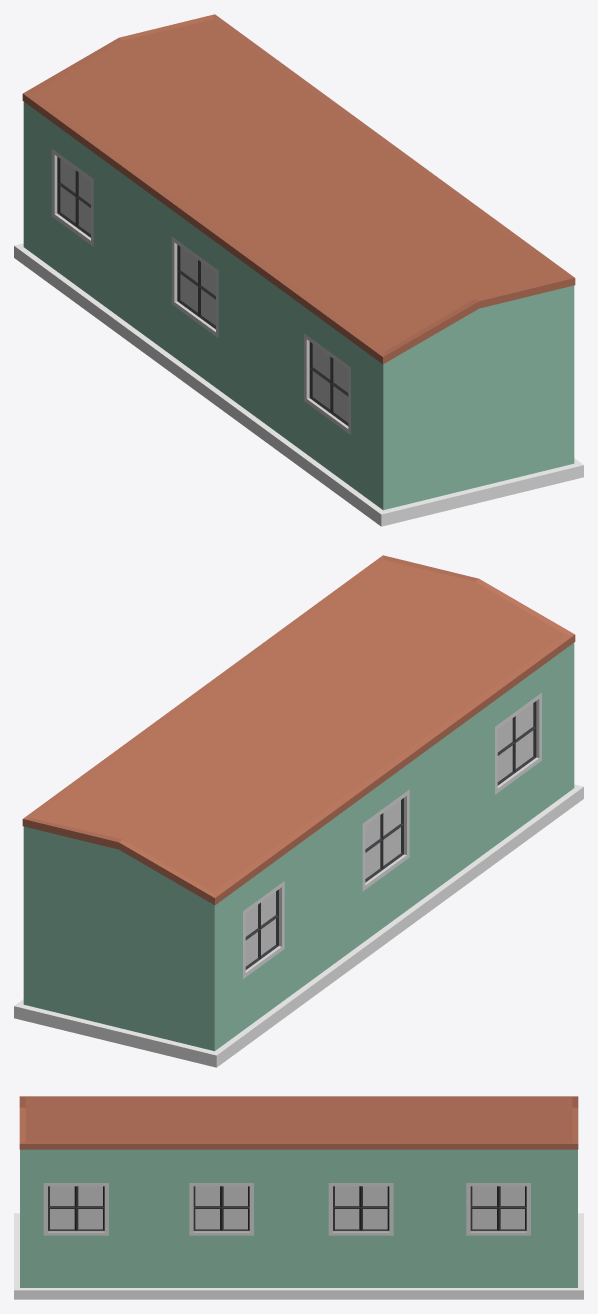
File: Church Hallblend.fbx
3 views of the same model, one above another, from view 1: azimuth 30°, elevation 25°; view 2: azimuth 150°, elevation 25°; view 3: azimuth 270°, elevation 25° (orthographic). The views are drawn at different scales.
Parts seen in each view (by area): view 1: building_003; view 2: building_003; view 3: building_003.
Part boxes in pixels (x1,y1,x2,y2): building_003: [14, 14, 583, 526]; building_003: [14, 555, 583, 1067]; building_003: [14, 1096, 583, 1299].
Size of the model in its own units: 349 by 326 by 1096.
